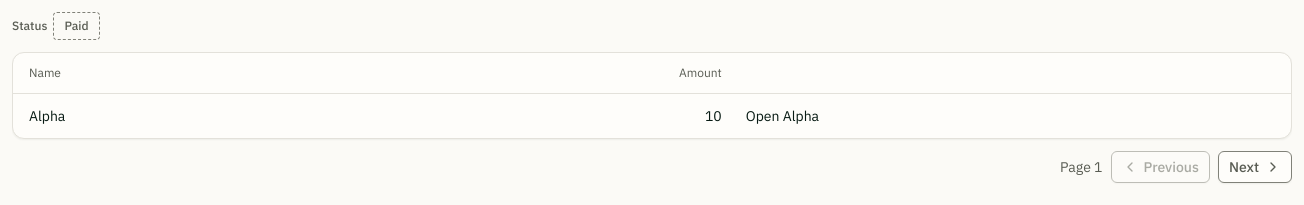
Test: DataTable › returns to the first page when a filter chip changes
Click the button "Next" at (1255, 166), box [1218,150,1292,182]
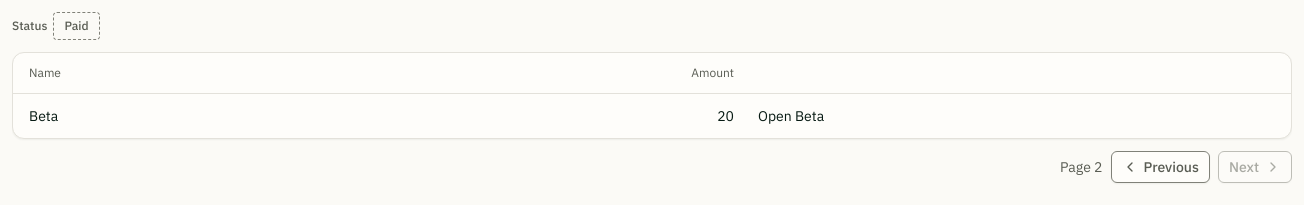
Expected: the text "Page 2" is shown, [1060,156,1102,176]
Click the button "Paid" at (77, 26), box [53,12,100,40]
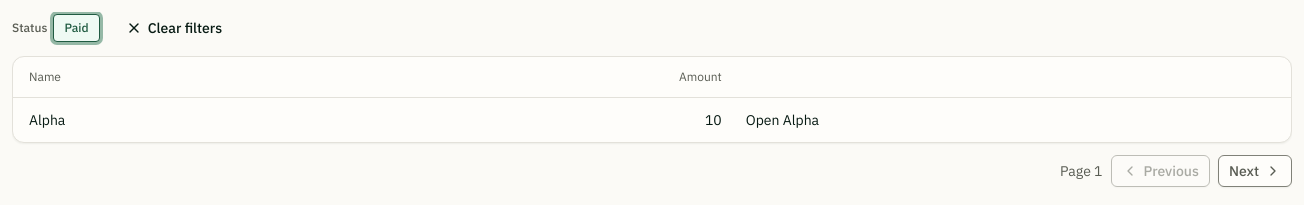
Expected: the text "Page 1" is shown, [1060,160,1102,180]
